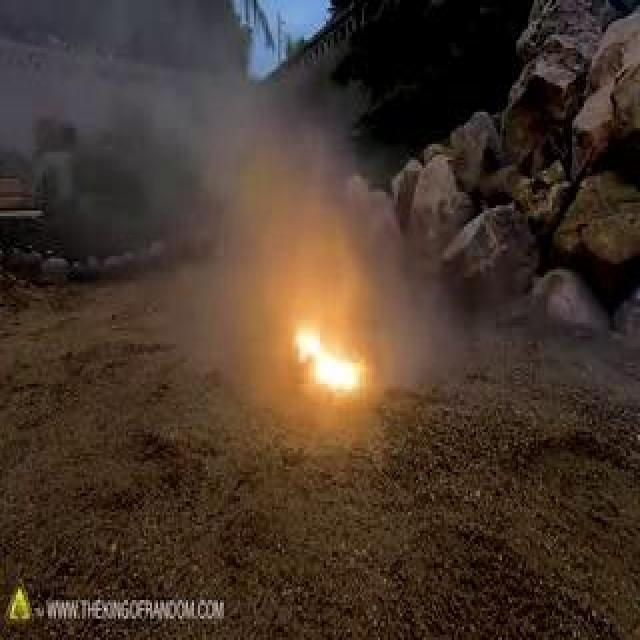Fire: (286, 309, 374, 403)
